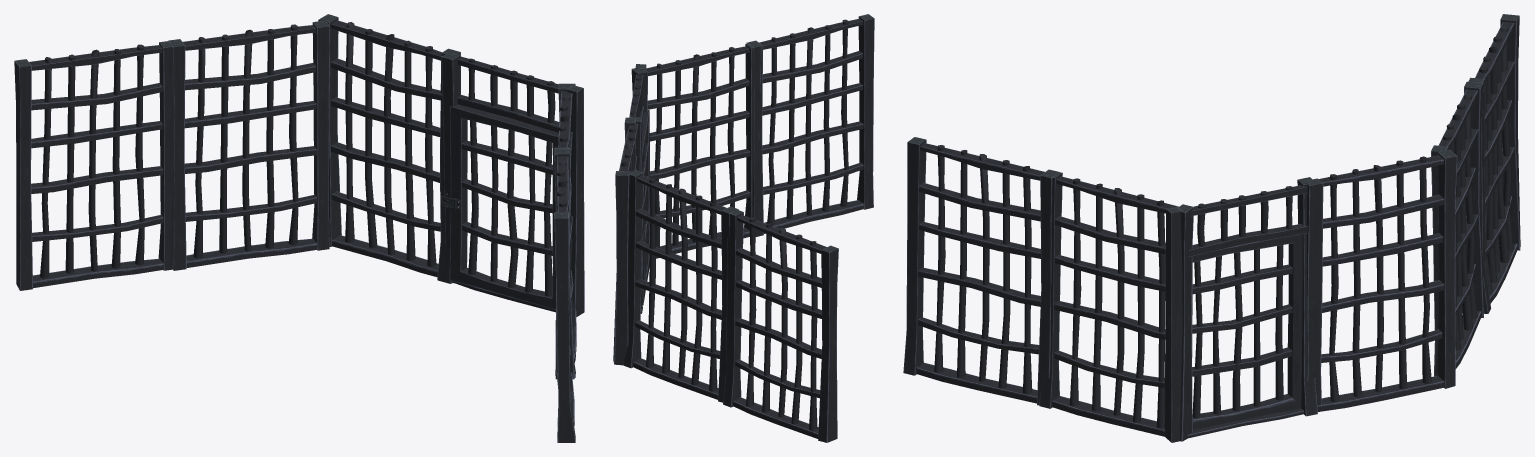
File: rejas.fbx
The picture shows the model from 3 angles, left to right: view 1: azimuth 30°, elevation 25°; view 2: azimuth 150°, elevation 25°; view 3: azimuth 270°, elevation 25°; orthographic projection. The views are drawn at different scales.
Visible parts, largest first — view 1: SM_PROP_bars_wall_dungeon_01.004, SM_PROP_bars_wall_dungeon_01.003, SM_PROP_bars_wall_dungeon_01.002, SM_PROP_bars_door_01_dungeon, SM_PROP_bars_doorway_dungeon_01, SM_PROP_bars_wall_dungeon_01, SM_PROP_bars_wall_dungeon_01.001; view 2: SM_PROP_bars_wall_dungeon_01.004, SM_PROP_bars_wall_dungeon_01, SM_PROP_bars_wall_dungeon_01.003, SM_PROP_bars_wall_dungeon_01.001, SM_PROP_bars_wall_dungeon_01.002, SM_PROP_bars_door_01_dungeon, SM_PROP_bars_doorway_dungeon_01; view 3: SM_PROP_bars_wall_dungeon_01, SM_PROP_bars_wall_dungeon_01.002, SM_PROP_bars_wall_dungeon_01.001, SM_PROP_bars_door_01_dungeon, SM_PROP_bars_doorway_dungeon_01, SM_PROP_bars_wall_dungeon_01.004, SM_PROP_bars_wall_dungeon_01.003.
Part boxes in pixels (left/top/right/bottom): SM_PROP_bars_wall_dungeon_01.004: left=14, top=41, right=173, bottom=290; SM_PROP_bars_wall_dungeon_01.003: left=168, top=21, right=329, bottom=270; SM_PROP_bars_wall_dungeon_01.002: left=318, top=14, right=460, bottom=277; SM_PROP_bars_door_01_dungeon: left=440, top=104, right=558, bottom=309; SM_PROP_bars_doorway_dungeon_01: left=437, top=48, right=584, bottom=316; SM_PROP_bars_wall_dungeon_01: left=554, top=148, right=575, bottom=442; SM_PROP_bars_wall_dungeon_01.001: left=554, top=83, right=576, bottom=377; SM_PROP_bars_wall_dungeon_01.004: left=723, top=210, right=838, bottom=442; SM_PROP_bars_wall_dungeon_01: left=746, top=14, right=874, bottom=236; SM_PROP_bars_wall_dungeon_01.003: left=623, top=170, right=738, bottom=402; SM_PROP_bars_wall_dungeon_01.001: left=631, top=43, right=761, bottom=258; SM_PROP_bars_wall_dungeon_01.002: left=613, top=116, right=642, bottom=365; SM_PROP_bars_door_01_dungeon: left=641, top=110, right=650, bottom=305; SM_PROP_bars_doorway_dungeon_01: left=624, top=64, right=646, bottom=313; SM_PROP_bars_wall_dungeon_01: left=903, top=137, right=1059, bottom=405; SM_PROP_bars_wall_dungeon_01.002: left=1297, top=150, right=1457, bottom=416; SM_PROP_bars_wall_dungeon_01.001: left=1039, top=172, right=1194, bottom=441; SM_PROP_bars_door_01_dungeon: left=1191, top=234, right=1302, bottom=429; SM_PROP_bars_doorway_dungeon_01: left=1164, top=178, right=1323, bottom=442; SM_PROP_bars_wall_dungeon_01.004: left=1468, top=14, right=1520, bottom=313; SM_PROP_bars_wall_dungeon_01.003: left=1431, top=81, right=1484, bottom=376.
Size of the model in its own units: 5.64 by 3.03 by 7.35.
1 material, 1 textured.
